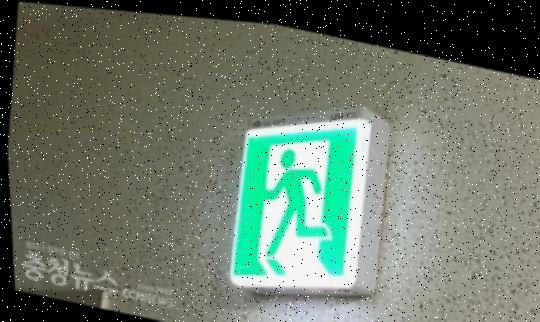emergency_exit: (228, 110, 389, 297)
